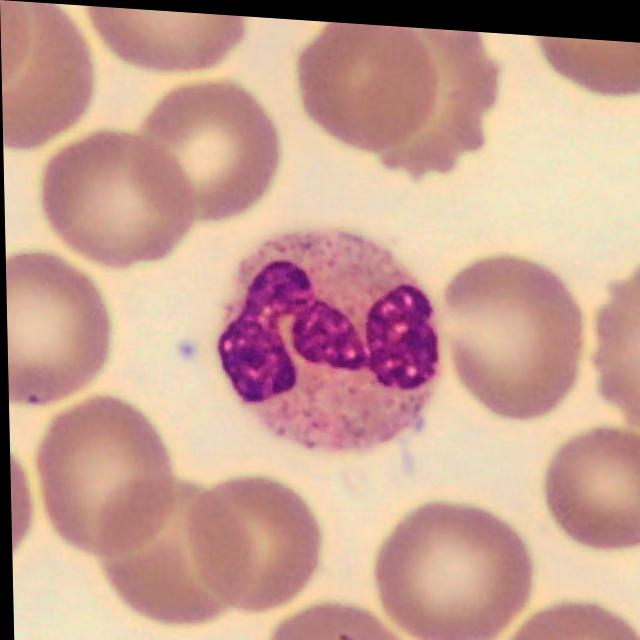Neutrofilo segmentado: (217, 229, 436, 444)
